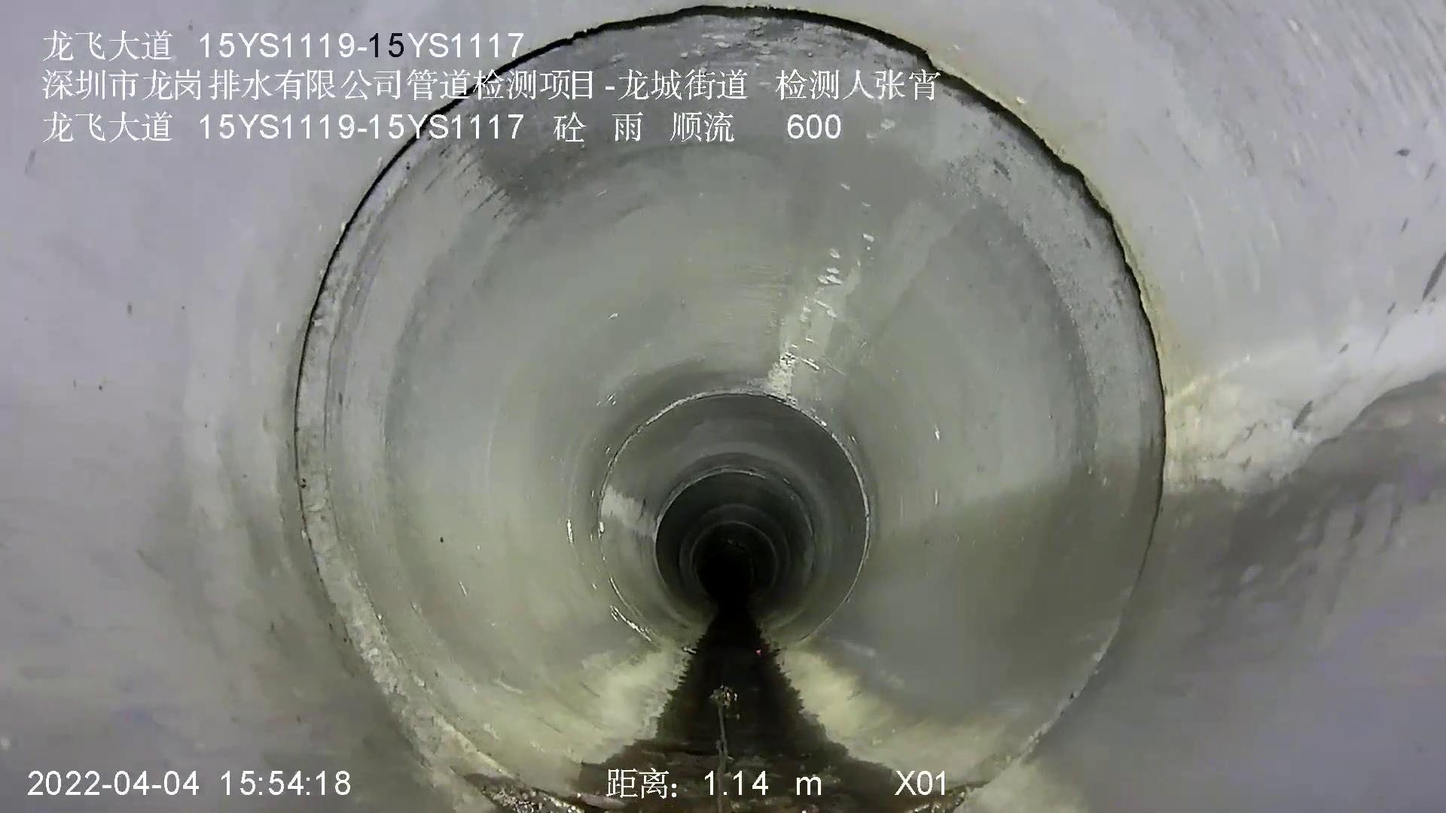CKTJ: (293, 5, 1167, 812)
